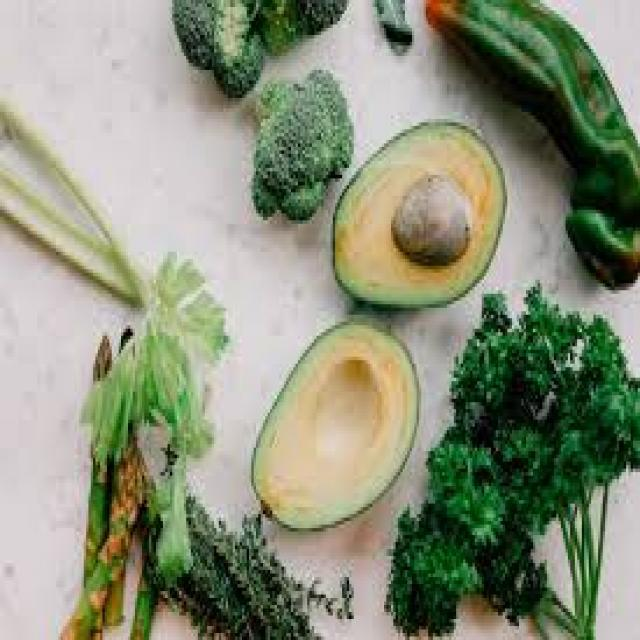Wet: (0, 71, 232, 640), (377, 288, 640, 640), (419, 0, 639, 291), (240, 310, 424, 538), (329, 123, 506, 306), (239, 69, 357, 220)
